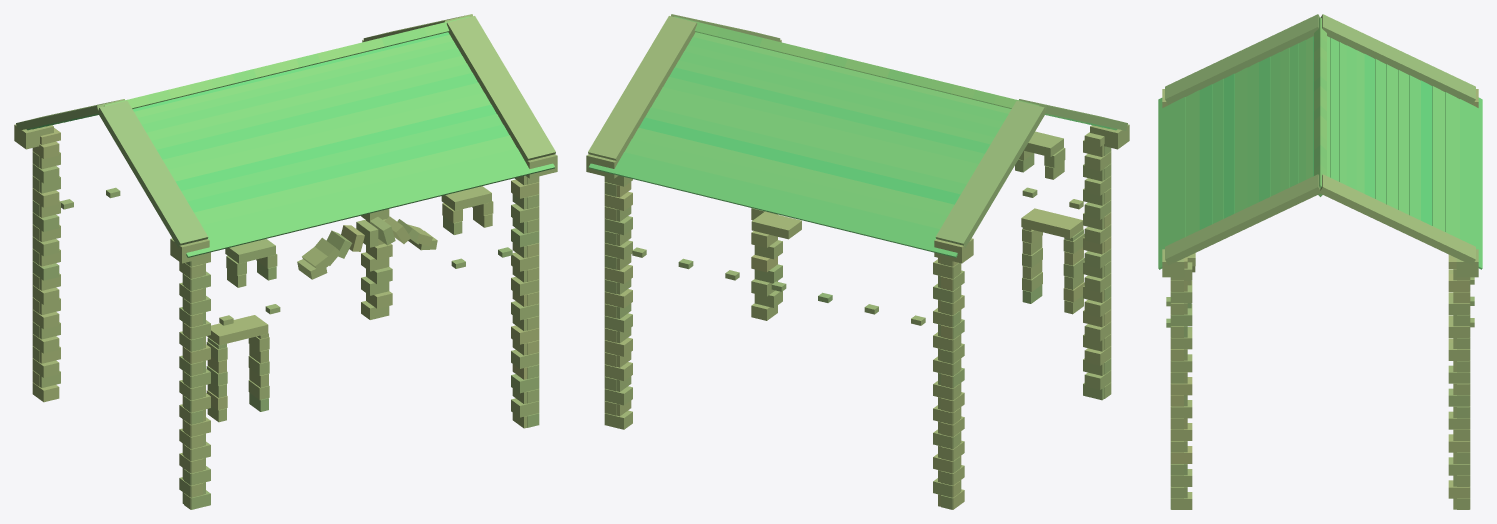
The model's file is SM_Bld_137_Stone.glb.
3 renders of one model, left to right at view 1: azimuth 30°, elevation 25°; view 2: azimuth 150°, elevation 25°; view 3: azimuth 270°, elevation 25°, orthographic. The views are drawn at different scales.
Visible parts, largest first — view 1: SM_Bld_137_Stone; view 2: SM_Bld_137_Stone; view 3: SM_Bld_137_Stone.
Part boxes in pixels (<box>): SM_Bld_137_Stone: <box>14,14,557,509</box>; SM_Bld_137_Stone: <box>586,14,1129,509</box>; SM_Bld_137_Stone: <box>1158,14,1482,509</box>.
Size of the model in its own units: 9.7 by 8.61 by 7.68.
